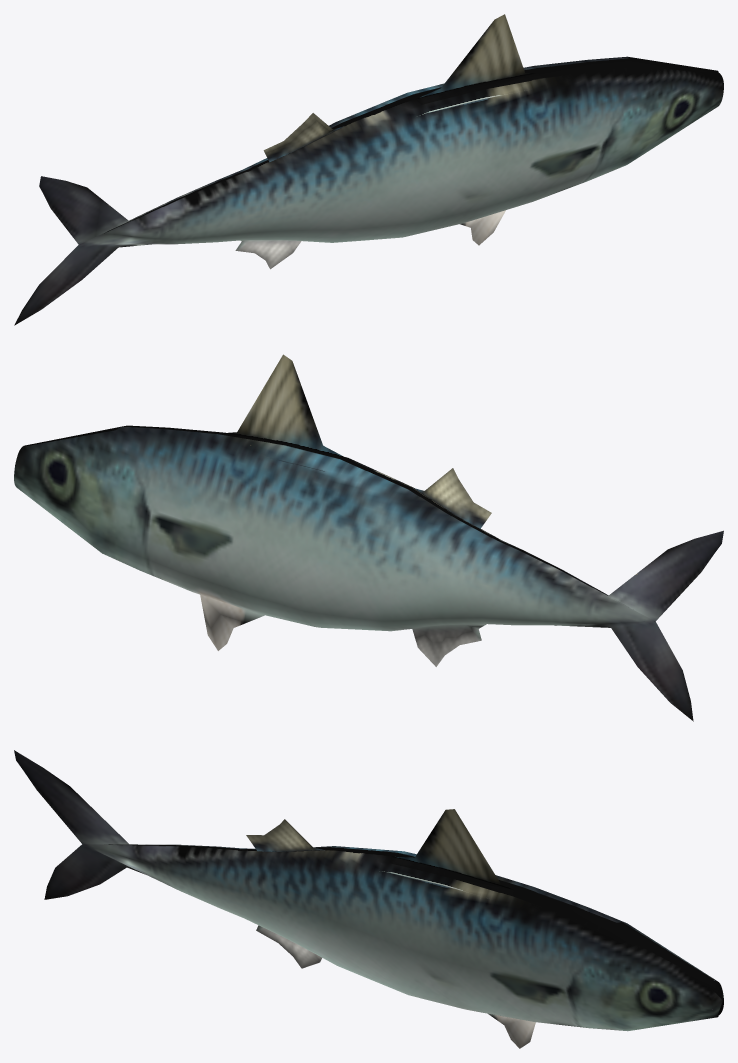
File: fish.gltf
3 renders of one model, top to bottom at view 1: azimuth 30°, elevation 25°; view 2: azimuth 150°, elevation 25°; view 3: azimuth 330°, elevation 25°, orthographic.
Parts seen in each view (by area): view 1: Sphere; view 2: Sphere; view 3: Sphere.
Boxes of the visible parts, x1,y1,x2,y2 form: Sphere: (14, 14, 723, 325); Sphere: (14, 354, 723, 721); Sphere: (14, 750, 723, 1048).
Size of the model in its own units: 1.04 by 0.3838 by 0.1321.
Materials: 1 (1 with a texture image).
